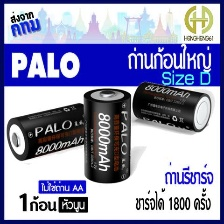battery: (5, 100, 99, 162), (80, 85, 135, 186), (130, 78, 213, 135)
